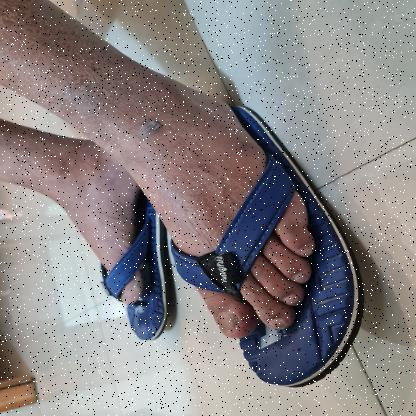leg: (0, 0, 334, 350), (0, 112, 148, 312)
